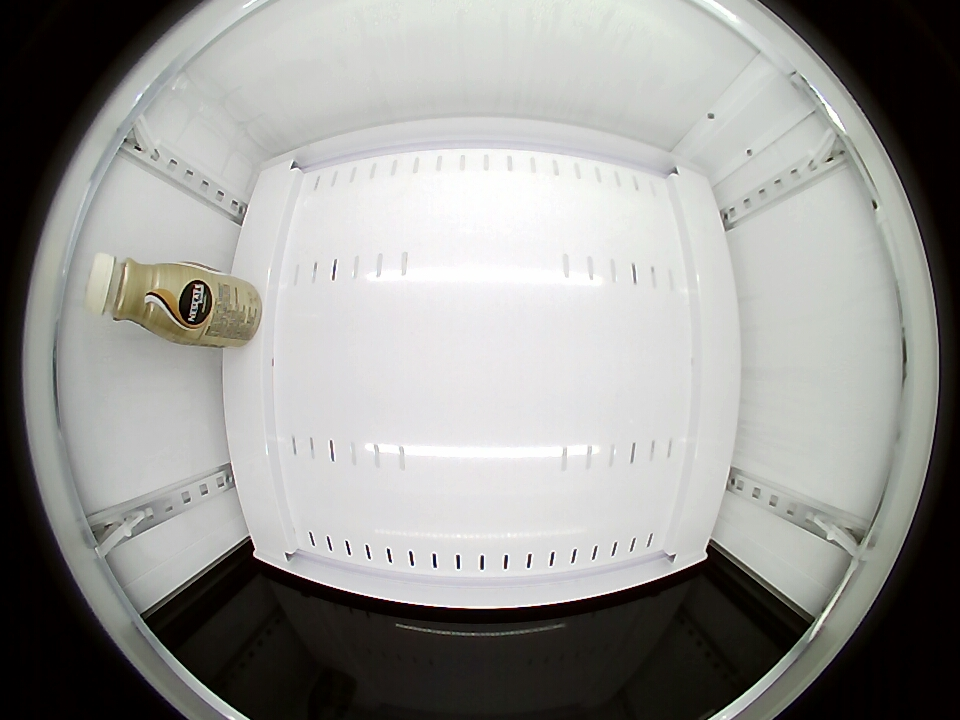kafei: (85, 253, 199, 340)
